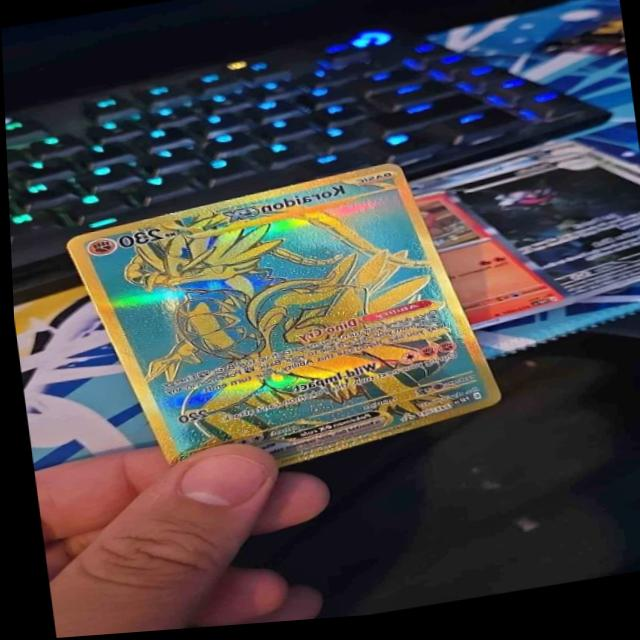card: (62, 167, 497, 471), (437, 159, 640, 309), (411, 193, 569, 336)
